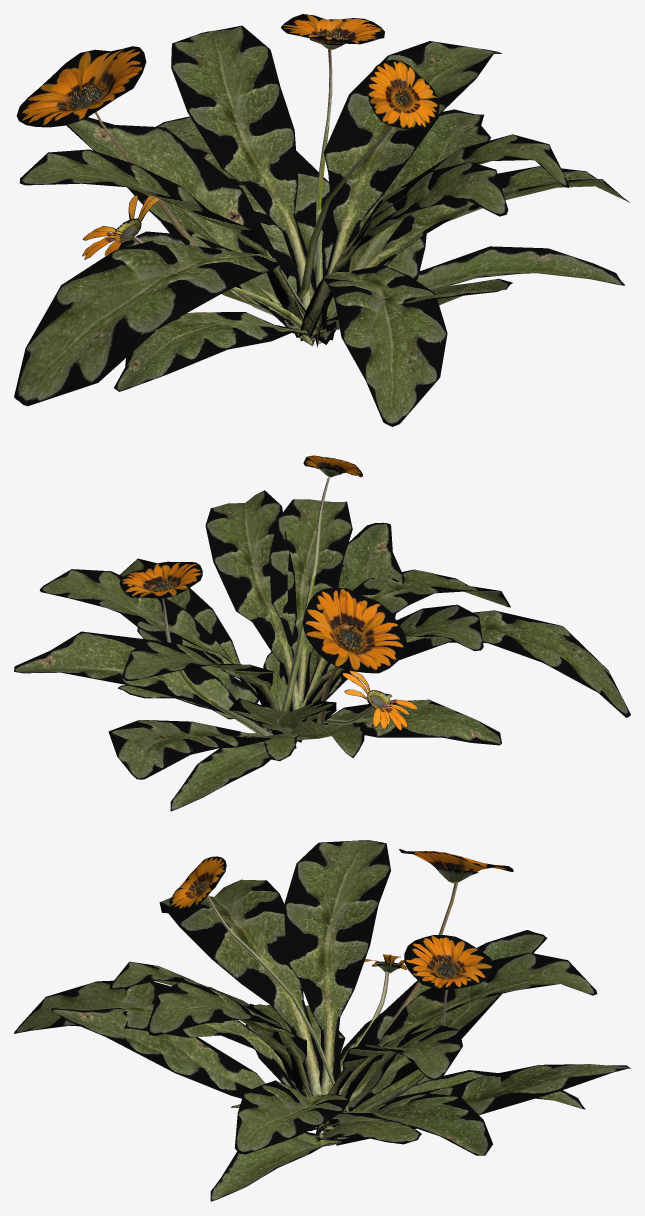
3 renders of one model, top to bottom at view 1: azimuth 30°, elevation 25°; view 2: azimuth 150°, elevation 25°; view 3: azimuth 270°, elevation 25°, orthographic. The views are drawn at different scales.
Parts seen in each view (by area): view 1: flower_gazania_h_LOD0; view 2: flower_gazania_h_LOD0; view 3: flower_gazania_h_LOD0.
Boxes of the visible parts, x1=… form: flower_gazania_h_LOD0: x1=14, y1=14, x2=629, y2=426; flower_gazania_h_LOD0: x1=14, y1=455, x2=630, y2=811; flower_gazania_h_LOD0: x1=14, y1=840, x2=630, y2=1201.
Bounding box in the file's own units: 0.3376 × 0.1655 × 0.3262.
1 material, 1 textured.
